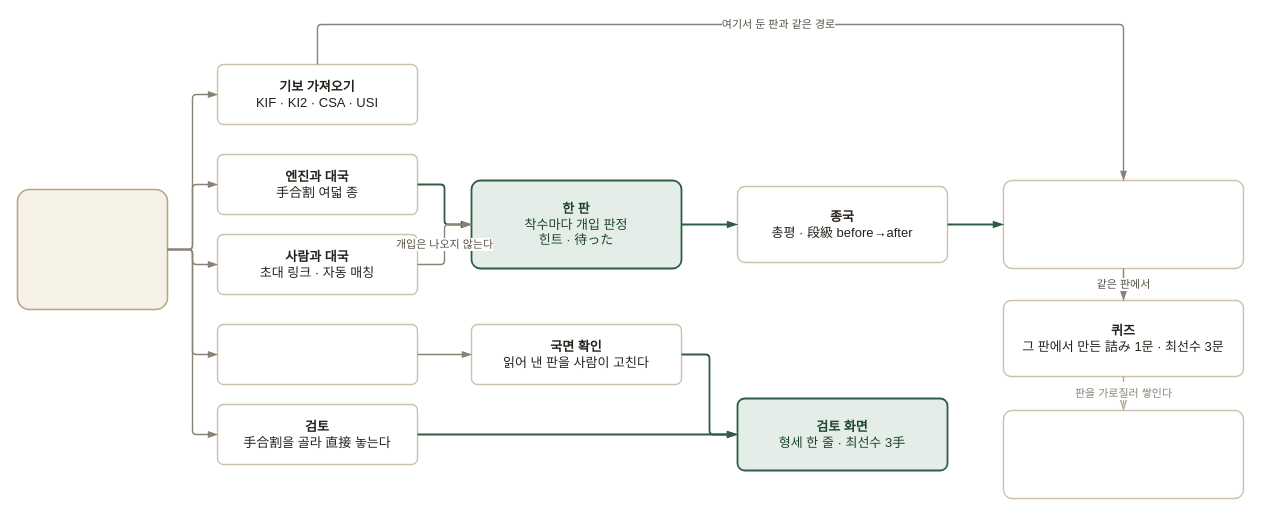
The diagram is 1262 pixels wide and 517 high, and some of its shapes have lost their labels. Here are the shapes that lost their labels. From the top down, the centre of each, then its label:
At [1123,224]: "되짚기 평가치 그래프에서 국면을 옮기고 다른 수를 그 판에서 둬 본다".
At [92,249]: "홈 対局 · 振り返り 検討 · あそびかた マイページ".
At [317,354]: "판 사진 올리기 이미지 한 장".
At [1123,454]: "マイページ 段級의 변화 · 전적 무너지기 쉬운 곳".
